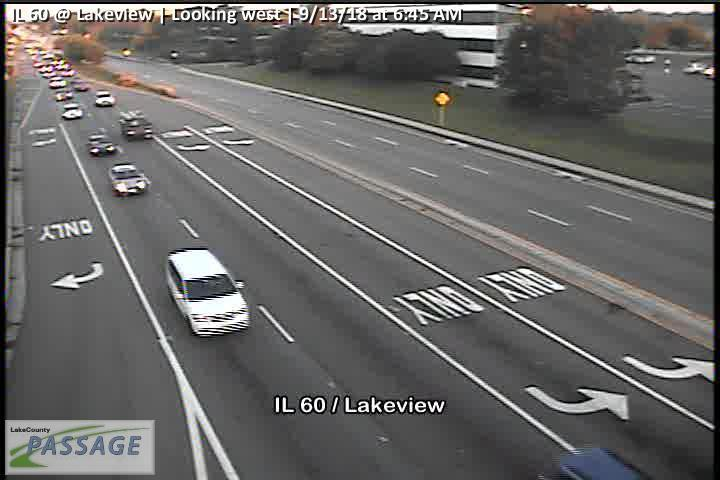SUV: (119, 109, 153, 141)
Sedan: (166, 248, 252, 339), (108, 164, 151, 195), (86, 134, 119, 157), (61, 103, 83, 120), (95, 90, 116, 106)
